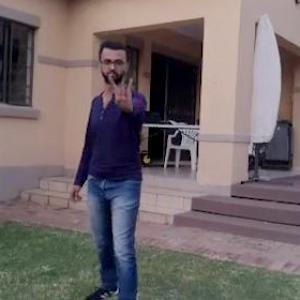takeoff-hand: (103, 66, 142, 112)
